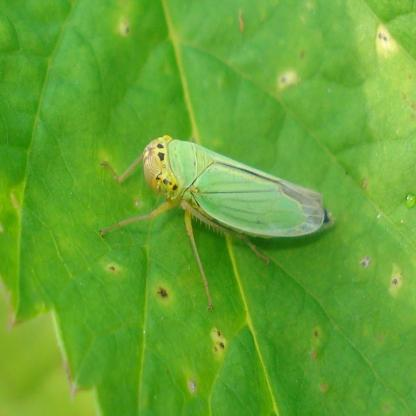Green-Leafhopper: (93, 134, 338, 269)
